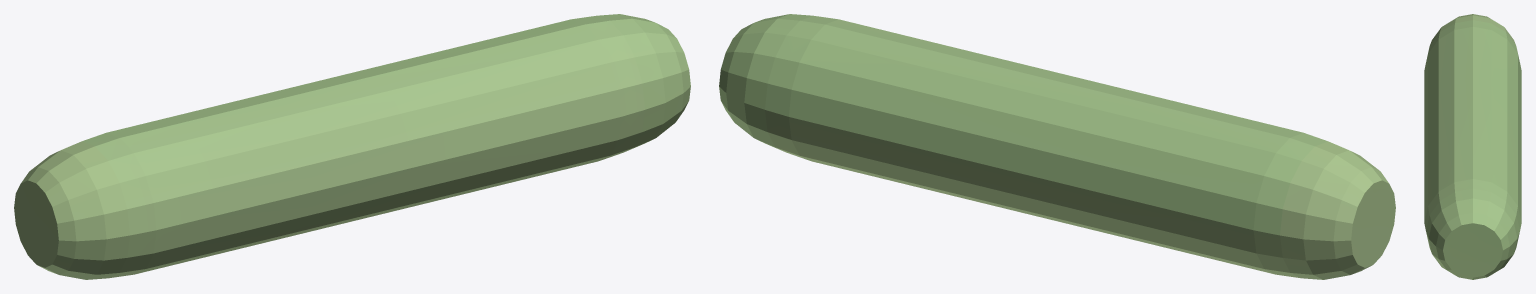
File: cucumber.fbx
The picture shows the model from 3 angles, left to right: view 1: azimuth 30°, elevation 25°; view 2: azimuth 150°, elevation 25°; view 3: azimuth 270°, elevation 25°; orthographic projection. The views are drawn at different scales.
Visible parts, largest first — view 1: cucumber; view 2: cucumber; view 3: cucumber.
Boxes of the visible parts, x1=… form: cucumber: x1=14, y1=14, x2=690, y2=279; cucumber: x1=719, y1=14, x2=1395, y2=279; cucumber: x1=1424, y1=14, x2=1521, y2=279.
Size of the model in its own units: 1184 by 236 by 236.
